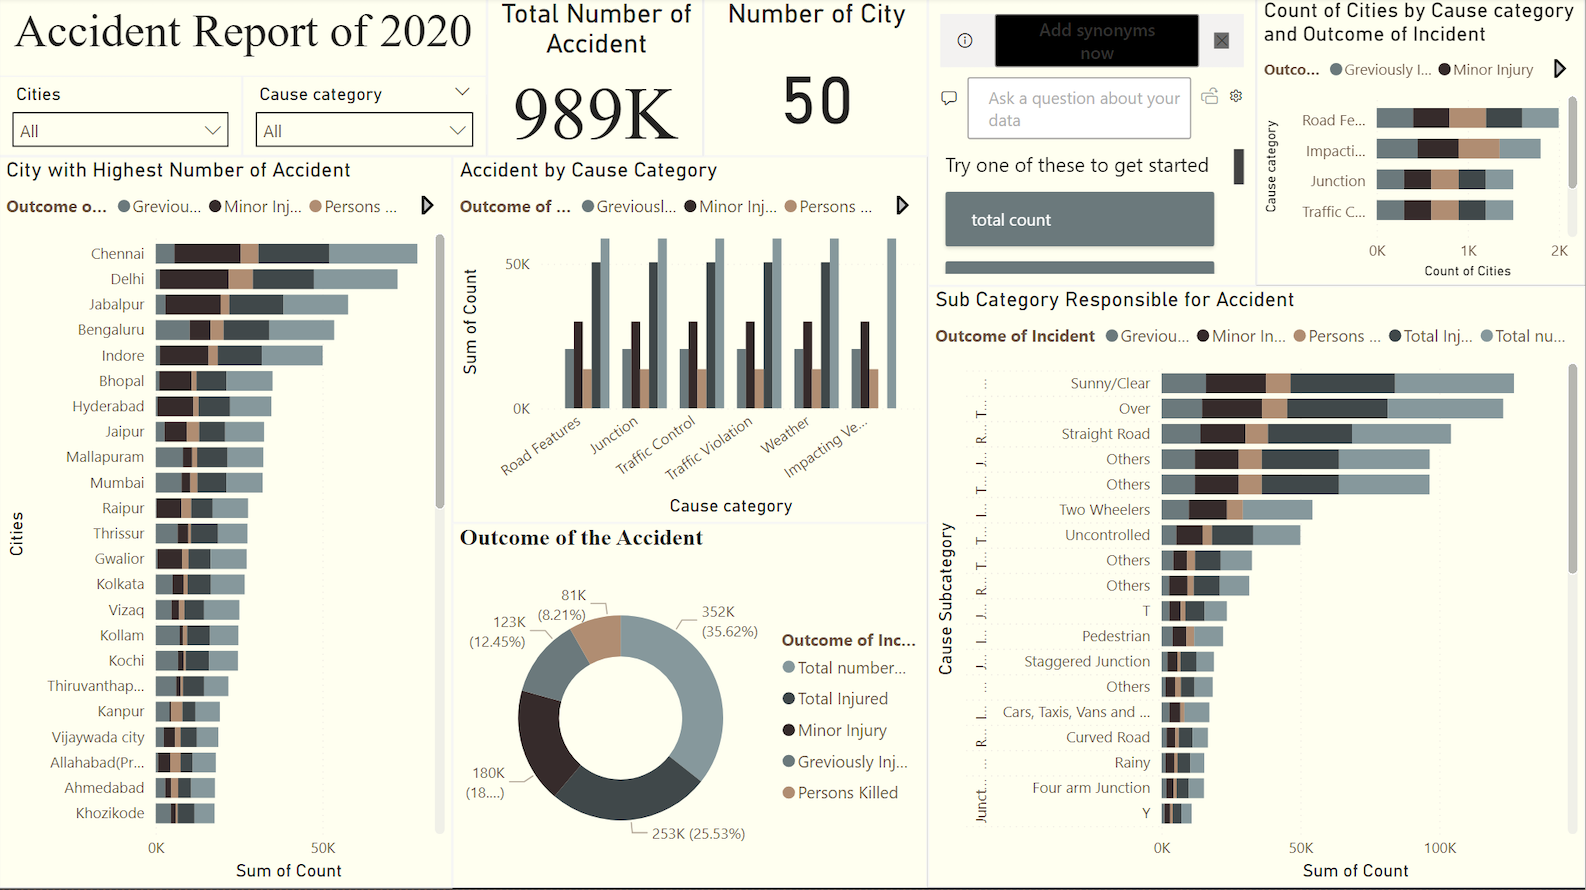

What the dashboard file says about the page in this screenshot:
{"tool":"powerbi","page":{"name":"Page 1","canvas":[1280,720],"ordinal":0},"visuals":[{"type":"textbox","box":[0,0,393.9,79],"z":0},{"type":"card","title":"Total Number of Accident","fields":{"Values":["Sum(Main.Count)"]},"box":[393.9,0,174.7,128.8],"z":1000},{"type":"donutChart","title":"Outcome of the Accident","fields":{"Category":["Main.Outcome of Incident"],"Y":["Sum(Main.Count)"]},"box":[365.9,424.5,383.7,294.5],"z":2000},{"type":"barChart","title":"City with Highest Number of Accident","fields":{"Category":["Main.Million Plus Cities"],"Y":["Sum(Main.Count)"],"Series":["Main.Outcome of Incident"]},"box":[0,128.8,365.9,590.3],"z":3000},{"type":"slicer","fields":{"Values":["Main.Million Plus Cities"]},"box":[0,63.7,196.3,65],"z":4000},{"type":"slicer","fields":{"Values":["Main.Cause category"]},"box":[196.3,63.7,197.6,65],"z":5000},{"type":"clusteredColumnChart","title":"Accident by Cause Category","fields":{"Category":["Main.Cause category"],"Y":["Sum(Main.Count)"],"Series":["Main.Outcome of Incident"]},"box":[365.9,128.8,383.7,295.8],"z":6000},{"type":"card","title":"Number of City","fields":{"Values":["Count(Main.Cities)"]},"box":[568.6,0,181,128.8],"z":7000},{"type":"barChart","title":"Sub Category Responsible for Accident","fields":{"Category":["Main.Cause category","Main.Cause Subcategory"],"Y":["Sum(Main.Count)"],"Series":["Main.Outcome of Incident"]},"box":[749.6,233.3,530.4,485.7],"z":8000},{"type":"qnaVisual","box":[749.6,0,265.2,233.3],"z":9000},{"type":"barChart","fields":{"Y":["CountNonNull(Main.Cities)"],"Category":["Main.Cause category"],"Series":["Main.Outcome of Incident"]},"box":[1015,0,265,233],"z":10000}]}

Visuals, with their boxes on the page's 1280x720 design canvas (x1, y1, x2, y2). These are canvas units, not pixel positions in the 1586x890 screenshot, which may show the page scaled, cropped or inside an application window:
textbox: crop(0, 0, 394, 79)
"Total Number of Accident" card: crop(394, 0, 569, 129)
"Outcome of the Accident" donutChart: crop(366, 424, 750, 719)
"City with Highest Number of Accident" barChart: crop(0, 129, 366, 719)
slicer - Main.Million Plus Cities: crop(0, 64, 196, 129)
slicer - Main.Cause category: crop(196, 64, 394, 129)
"Accident by Cause Category" clusteredColumnChart: crop(366, 129, 750, 425)
"Number of City" card: crop(569, 0, 750, 129)
"Sub Category Responsible for Accident" barChart: crop(750, 233, 1280, 719)
qnaVisual: crop(750, 0, 1015, 233)
barChart - CountNonNull(Main.Cities) x Main.Cause category: crop(1015, 0, 1280, 233)
